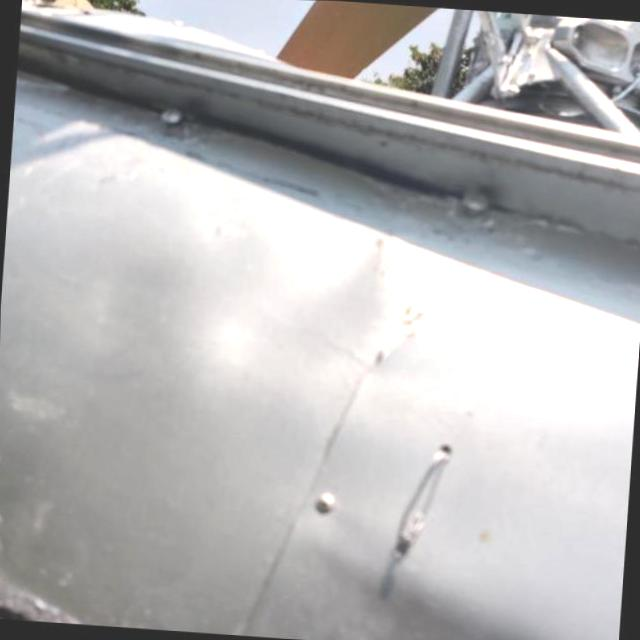dent: (203, 178, 414, 420)
